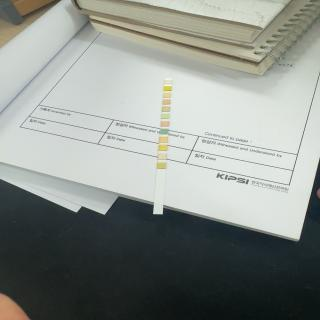mark: (158, 144, 168, 150), (157, 162, 165, 168), (158, 154, 166, 160), (160, 136, 168, 142), (160, 128, 168, 134), (161, 120, 169, 126), (162, 106, 170, 112), (162, 114, 170, 118), (162, 100, 170, 104), (164, 93, 172, 97), (164, 86, 172, 90), (164, 80, 172, 84)
